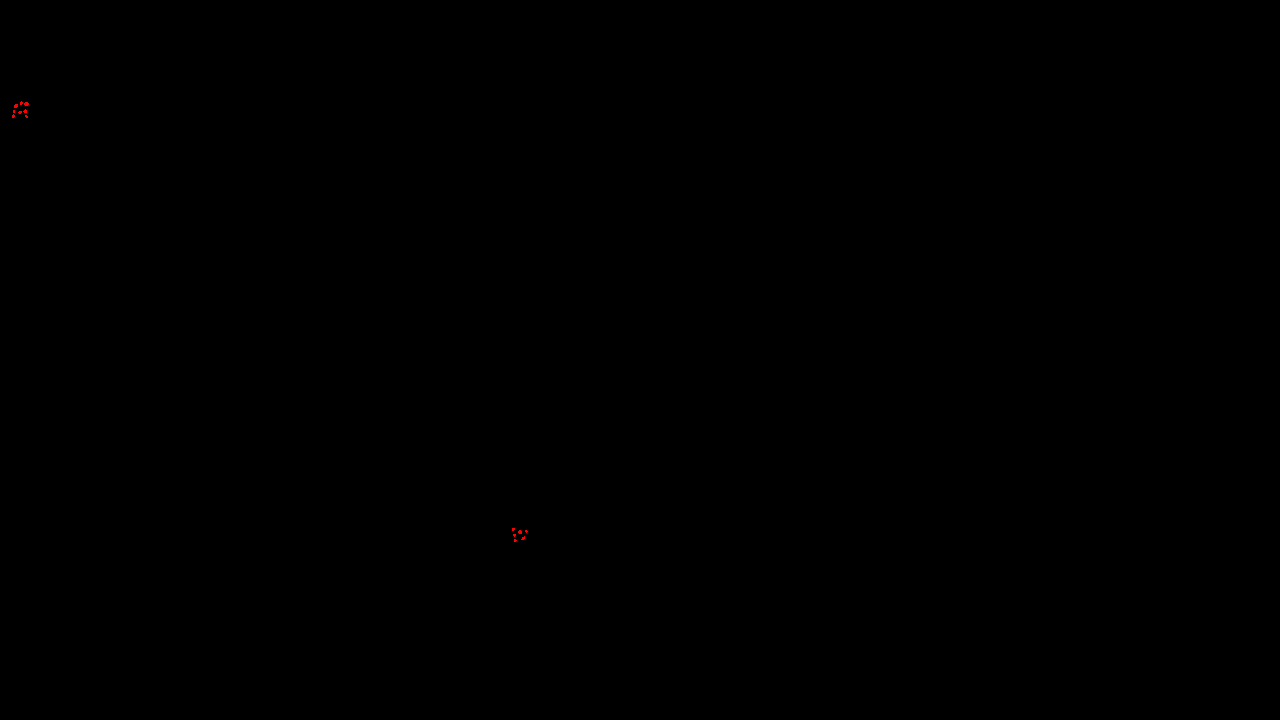Target: (24, 102, 29, 106), (14, 104, 18, 108), (23, 109, 27, 113), (518, 530, 522, 534), (521, 536, 525, 540), (20, 101, 23, 105), (18, 111, 22, 114), (12, 114, 15, 118), (25, 115, 28, 118), (512, 528, 515, 531), (525, 530, 528, 533), (513, 534, 516, 537), (514, 539, 517, 542), (13, 110, 15, 113)
